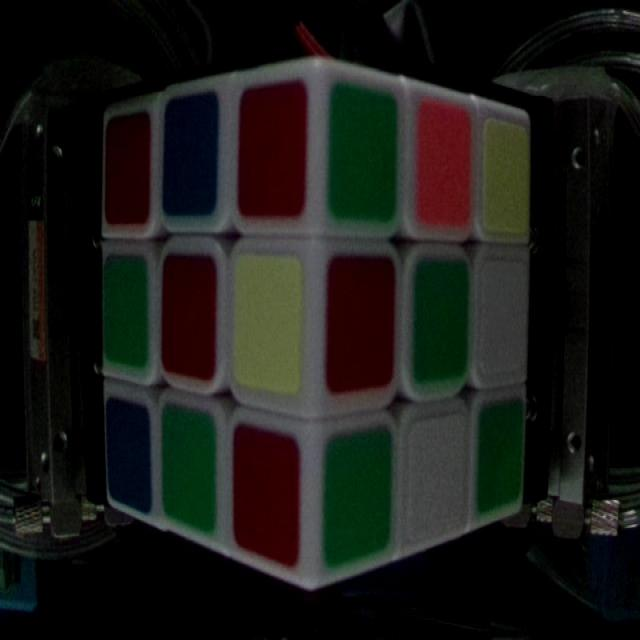b: (165, 94, 219, 210), (107, 396, 155, 514)
g: (332, 85, 397, 222), (325, 438, 396, 552), (414, 257, 472, 387), (165, 411, 216, 537), (105, 251, 150, 371), (477, 402, 526, 510)
o: (415, 97, 473, 226)
r: (234, 430, 300, 566), (327, 257, 394, 390), (243, 86, 306, 212), (167, 254, 213, 376), (104, 115, 150, 222)
w: (407, 422, 468, 540), (480, 254, 528, 374)
y: (232, 254, 302, 388), (486, 128, 533, 231)
